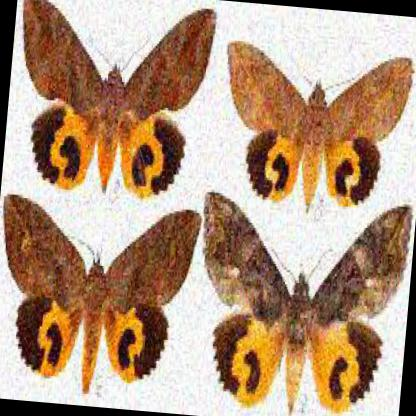fruit sucking moth: (206, 193, 411, 416), (3, 196, 201, 393), (22, 0, 215, 198), (228, 42, 413, 210)
